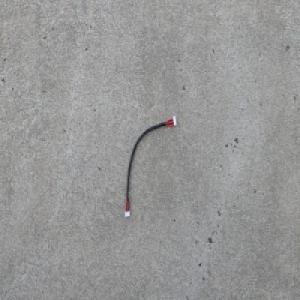Wire: (123, 114, 177, 217)
